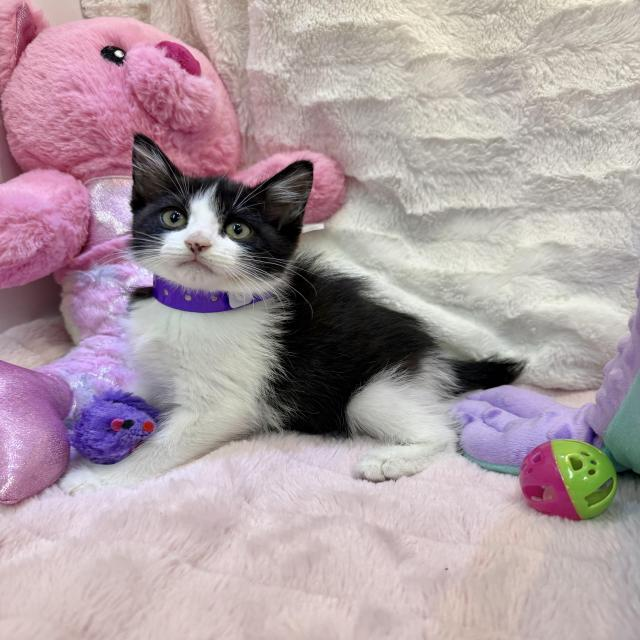manx_cat: (98, 125, 327, 322)
